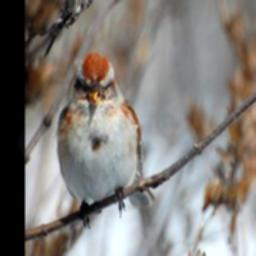Sparrow: (55, 49, 158, 234)
